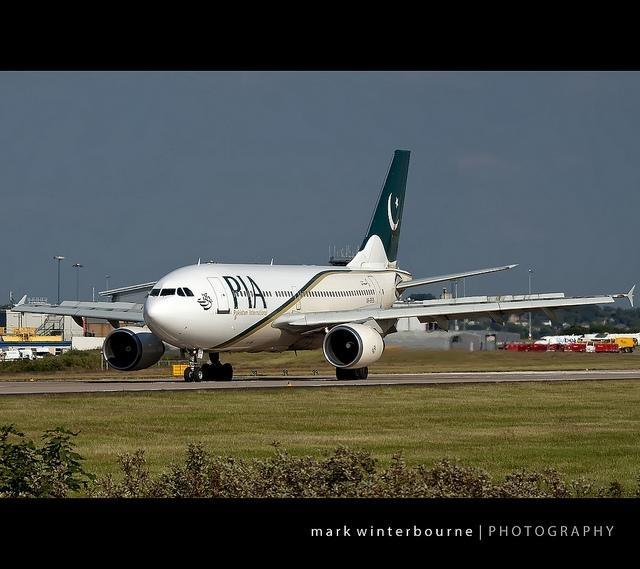truck: (605, 338, 636, 353), (542, 341, 560, 354), (586, 342, 594, 352)
